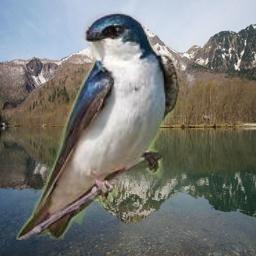Swallow: (16, 10, 179, 240)
